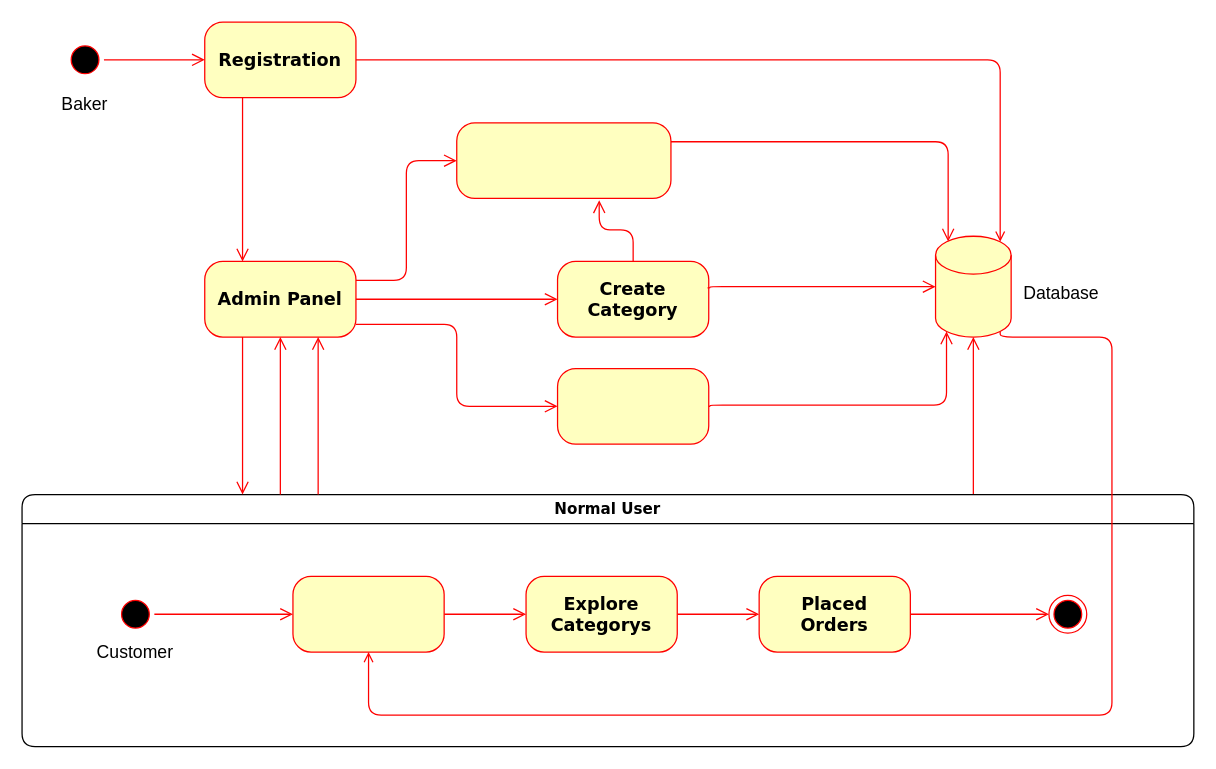
Some shapes in this 1216 by 769 pixel diagram are drawn without their labels. Each missing label, with the centre of its shape:
"Add Productos" belongs at point 563,160.
"Home Page" belongs at point 368,613.
"Manage Orders" belongs at point 632,405.
